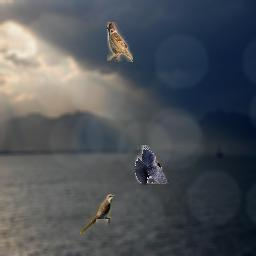Crow: (135, 145, 169, 185)
Cuckoo: (80, 194, 115, 234)
Sparrow: (107, 22, 133, 62)
